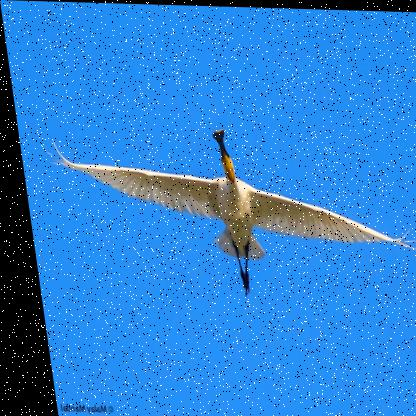Burung: (36, 125, 415, 300)
